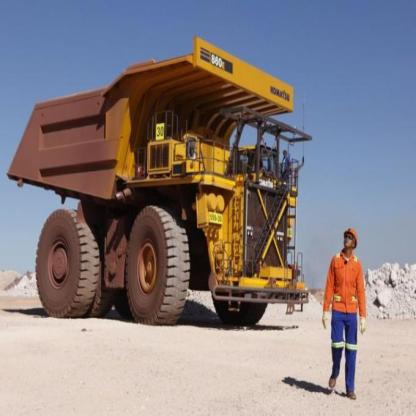dump_truck: (7, 34, 309, 329)
person: (314, 212, 380, 402)
